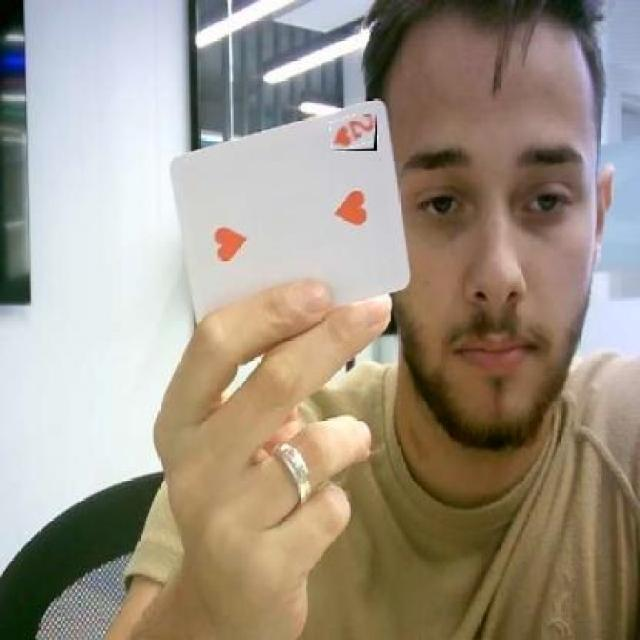2H: (331, 114, 377, 151)
